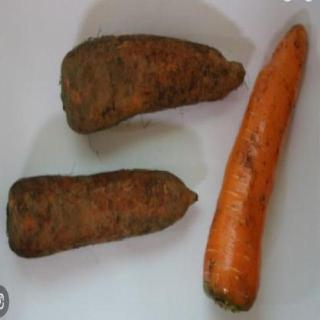carrot: (202, 18, 310, 314), (57, 32, 249, 140), (4, 165, 200, 261)
